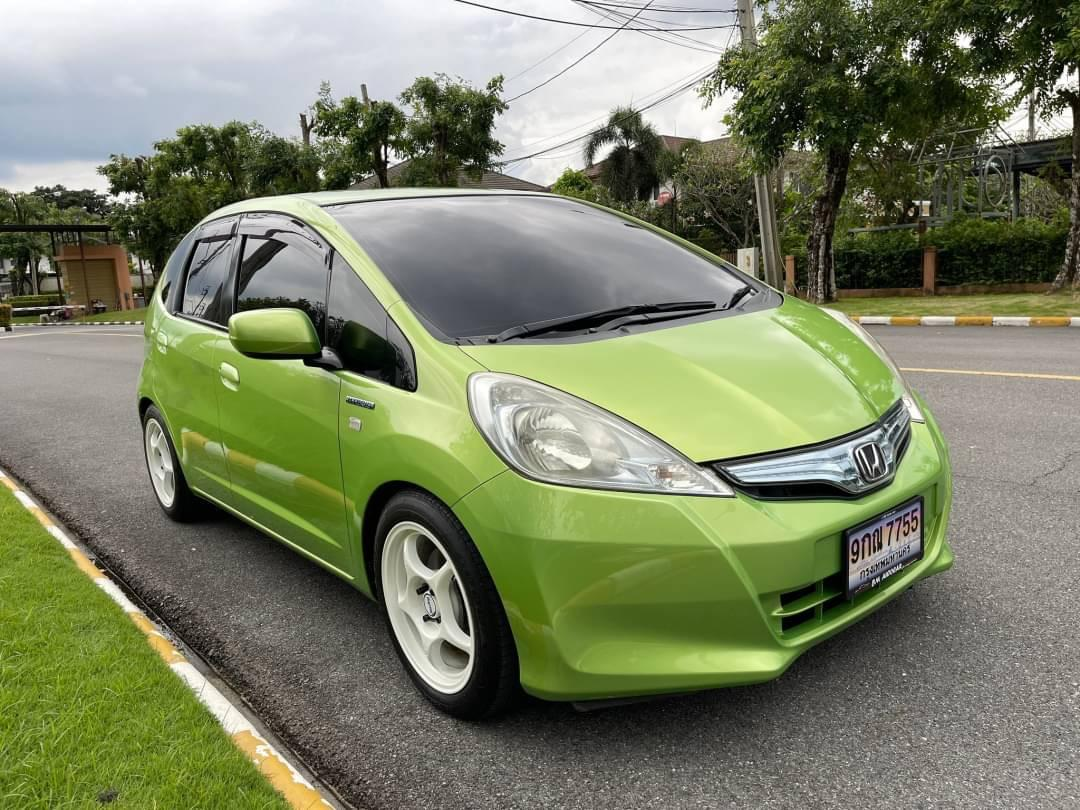license-plate: (839, 494, 927, 606)
